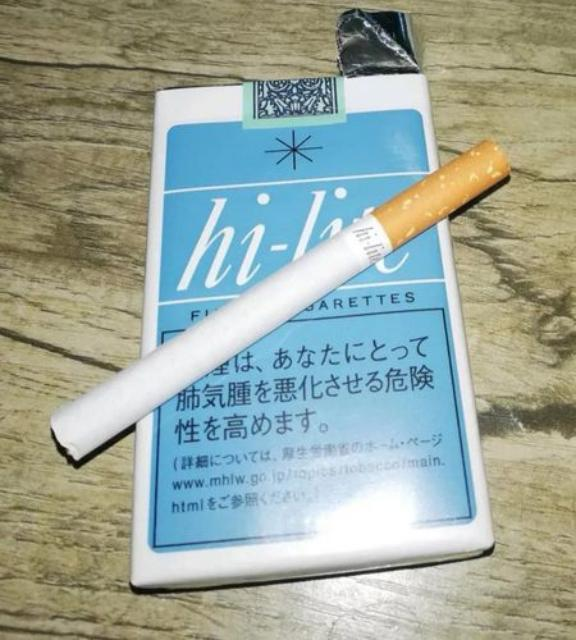Cigarette: (50, 140, 512, 460)
